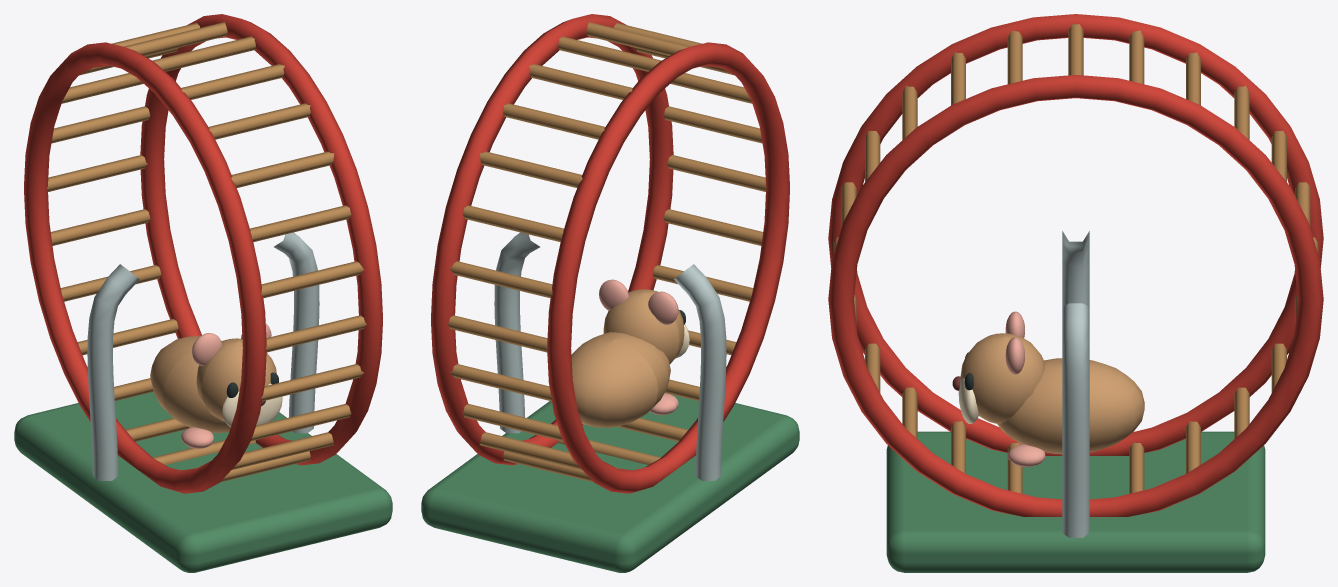
Rendered from hamster-light.glb.
3 views of the same model, side by side, from view 1: azimuth 30°, elevation 25°; view 2: azimuth 150°, elevation 25°; view 3: azimuth 270°, elevation 25° (orthographic). The views are drawn at different scales.
Parts seen in each view (by area): view 1: red, green, wood, steel, fur, skin, ivory; view 2: red, green, wood, fur, steel, skin; view 3: red, green, wood, fur, steel, skin.
Boxes of the visible parts, x1=… form: red: x1=24, y1=14, x2=382, y2=493; green: x1=14, y1=392, x2=392, y2=572; wood: x1=47, y1=22, x2=366, y2=482; steel: x1=87, y1=232, x2=319, y2=480; fur: x1=150, y1=336, x2=276, y2=432; skin: x1=181, y1=323, x2=271, y2=448; ivory: x1=222, y1=383, x2=282, y2=427; red: x1=431, y1=14, x2=789, y2=493; green: x1=421, y1=393, x2=799, y2=572; wood: x1=447, y1=22, x2=766, y2=482; fur: x1=571, y1=289, x2=684, y2=427; steel: x1=494, y1=232, x2=726, y2=480; skin: x1=599, y1=279, x2=678, y2=415; red: x1=828, y1=14, x2=1323, y2=516; green: x1=886, y1=431, x2=1265, y2=572; wood: x1=833, y1=24, x2=1318, y2=493; fur: x1=961, y1=333, x2=1144, y2=454; steel: x1=1062, y1=231, x2=1089, y2=537; skin: x1=1005, y1=311, x2=1045, y2=466.
Bounding box in the file's own units: 0.3689 × 0.697 × 0.654.
